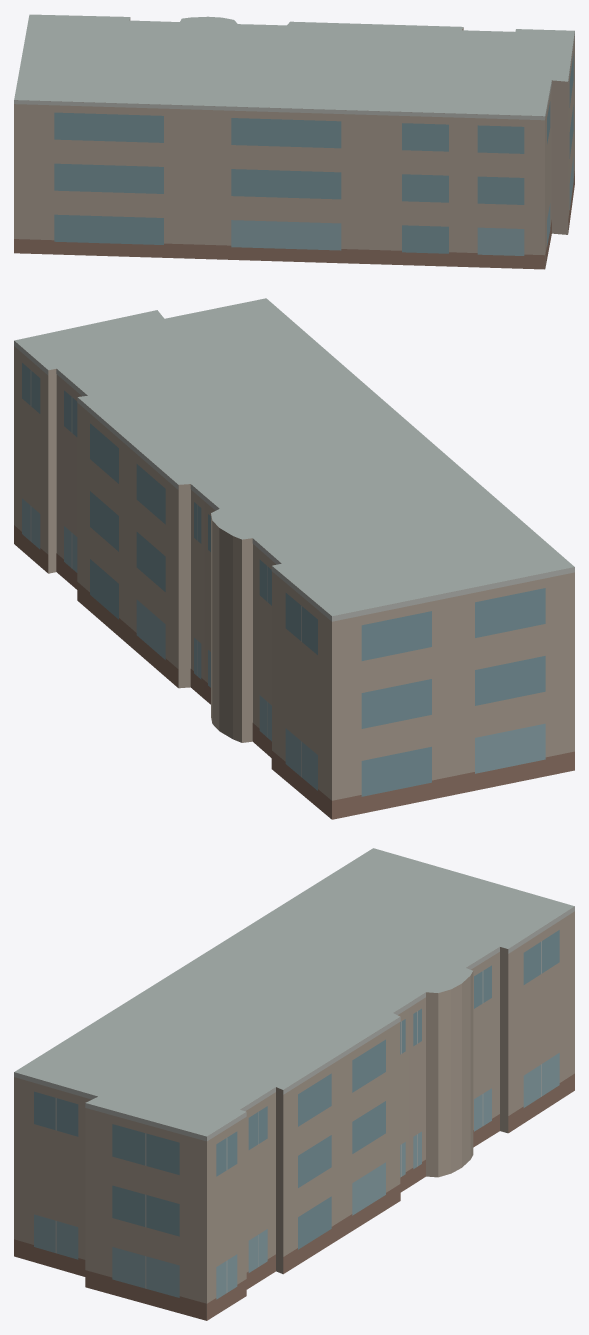
File: survey-upis-32554317.glb
3 views of the same model, one above another, from view 1: azimuth 30°, elevation 25°; view 2: azimuth 150°, elevation 25°; view 3: azimuth 270°, elevation 25° (orthographic). The views are drawn at different scales.
Visible parts, largest first — view 1: survey-upis-32554317.tmp; view 2: survey-upis-32554317.tmp; view 3: survey-upis-32554317.tmp.
Boxes of the visible parts, bbox=[...] form: survey-upis-32554317.tmp: bbox=[14, 14, 574, 269]; survey-upis-32554317.tmp: bbox=[14, 298, 574, 819]; survey-upis-32554317.tmp: bbox=[14, 848, 574, 1320].
Bounding box in the file's own units: 30.73 × 9.15 × 25.24.
